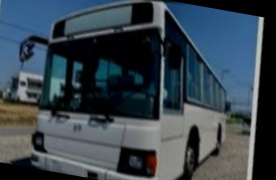bus: (12, 0, 254, 180)
